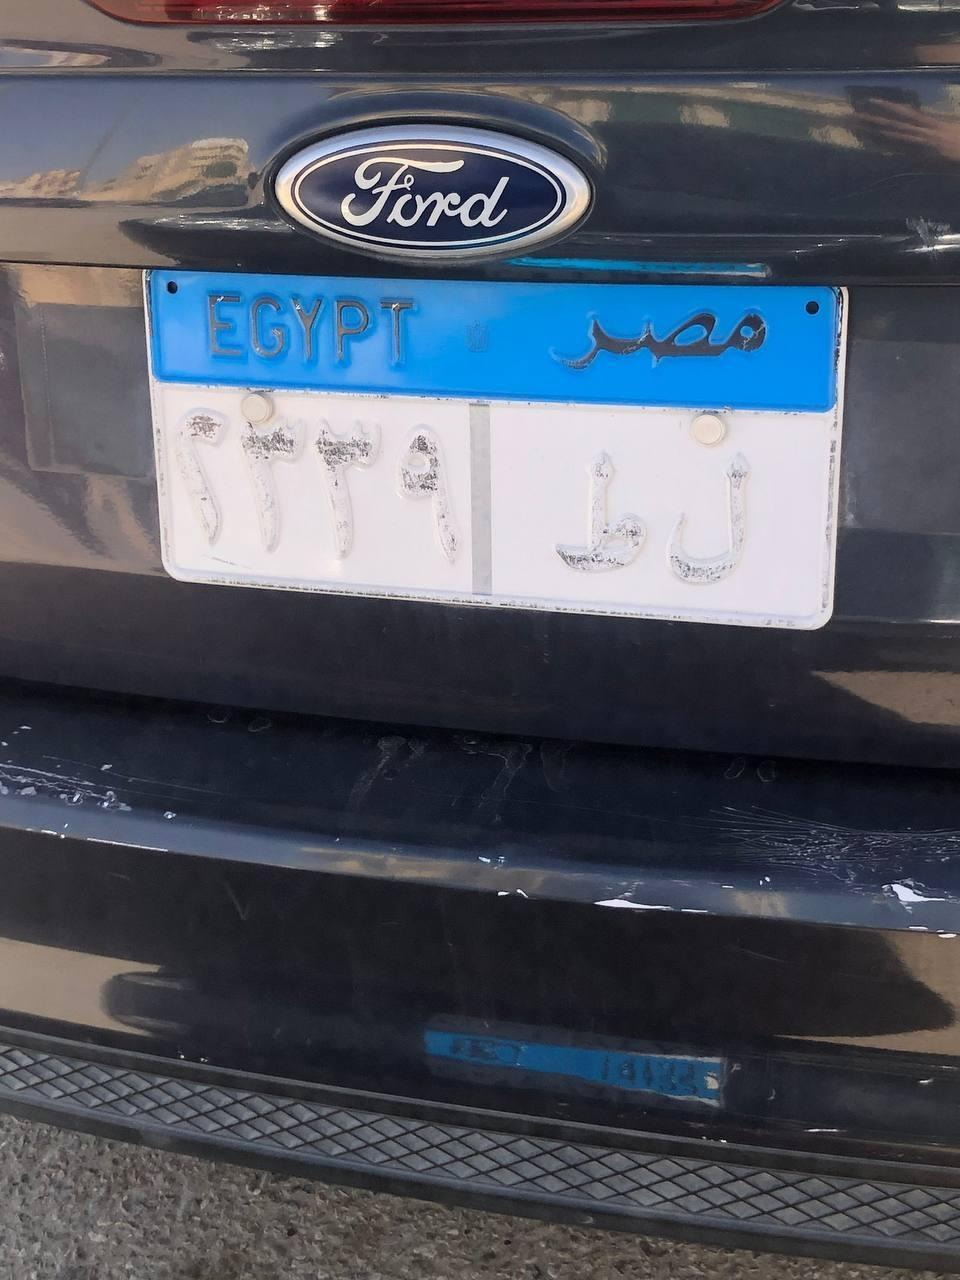2: (170, 400, 237, 560)
3: (313, 416, 377, 562), (233, 416, 297, 558)
9: (398, 420, 459, 570)
Laam: (670, 460, 778, 590)
License Plate: (140, 268, 844, 638)
Taa: (538, 446, 645, 586)
